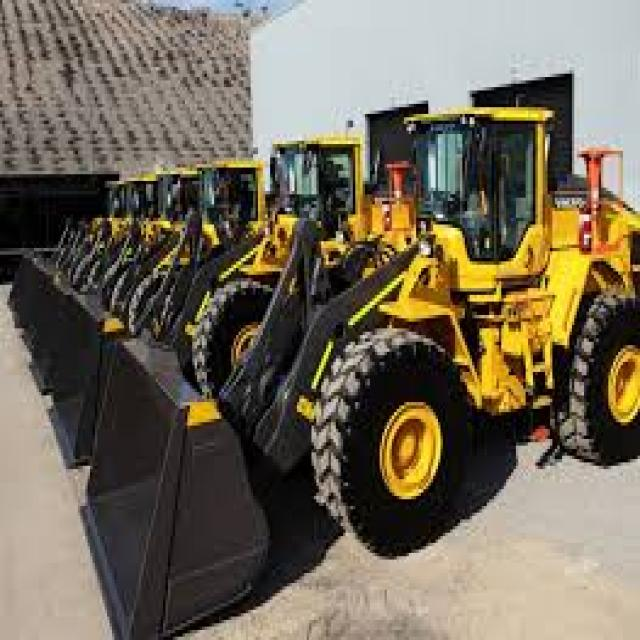buldozerpayloadergrader: (324, 102, 640, 539), (218, 133, 420, 384), (186, 155, 272, 347)
